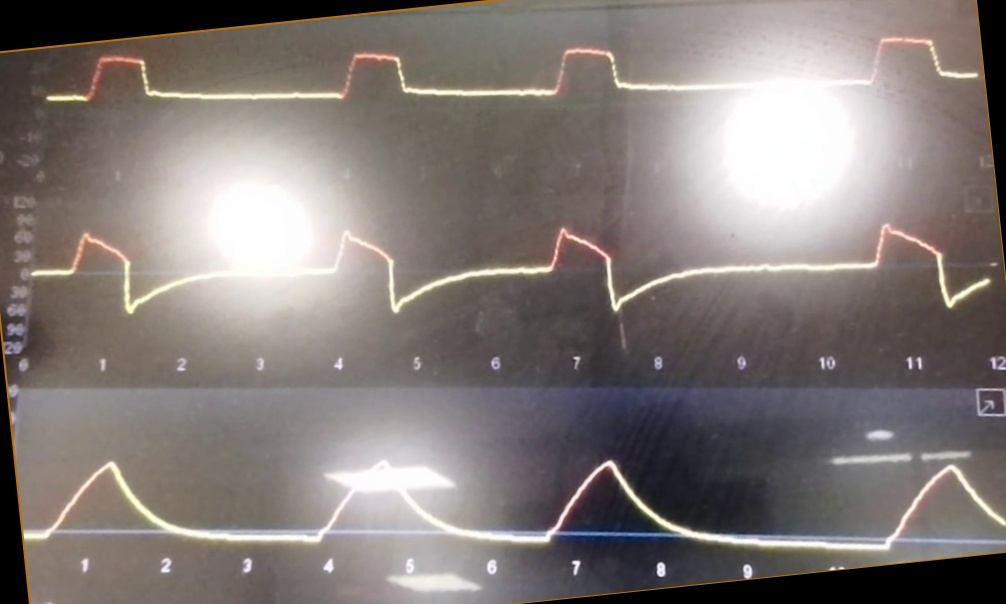Normal Flow: (37, 205, 989, 340)
Normal Volume: (28, 426, 1006, 552)
